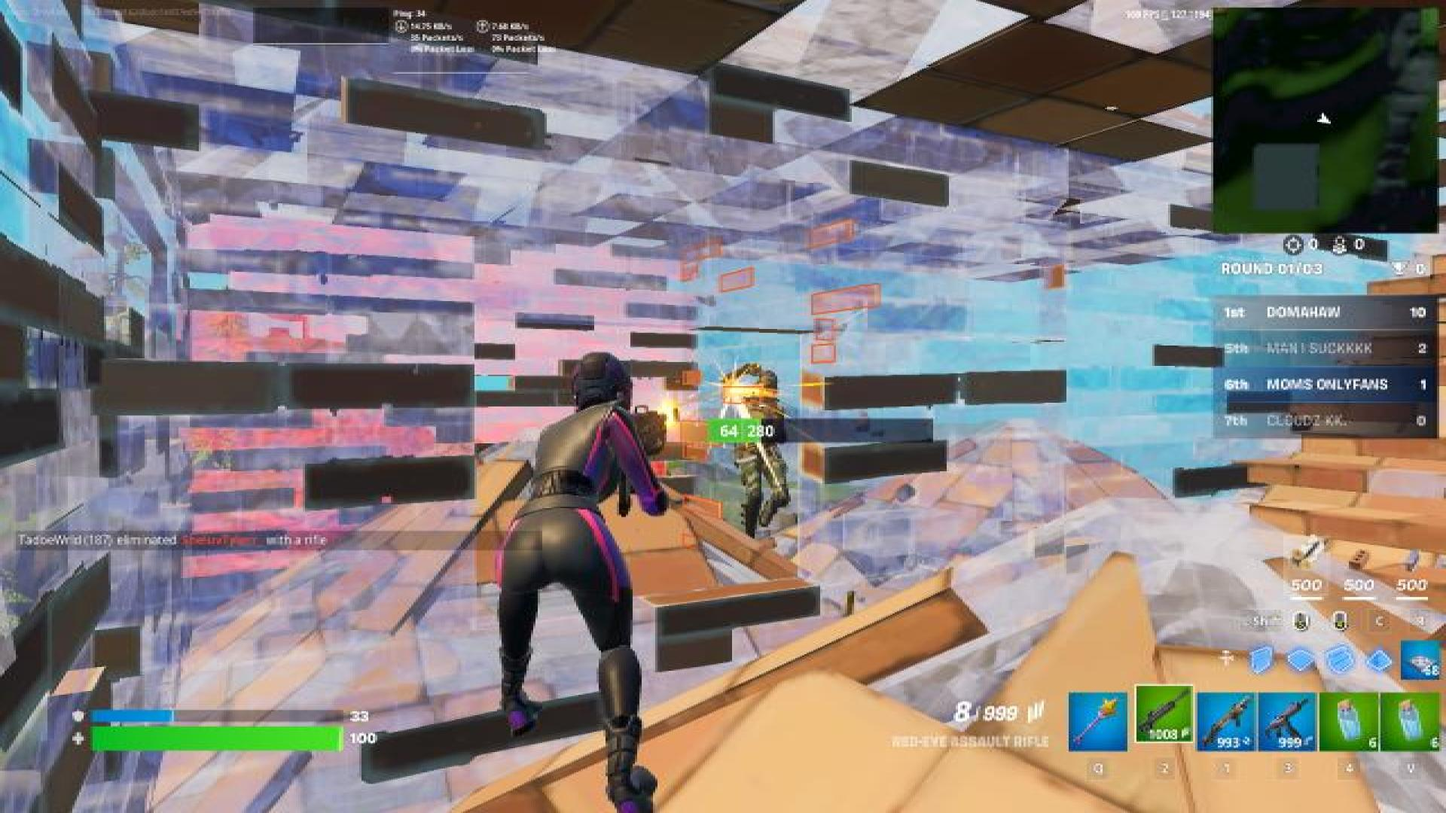player: (735, 358, 792, 538)
